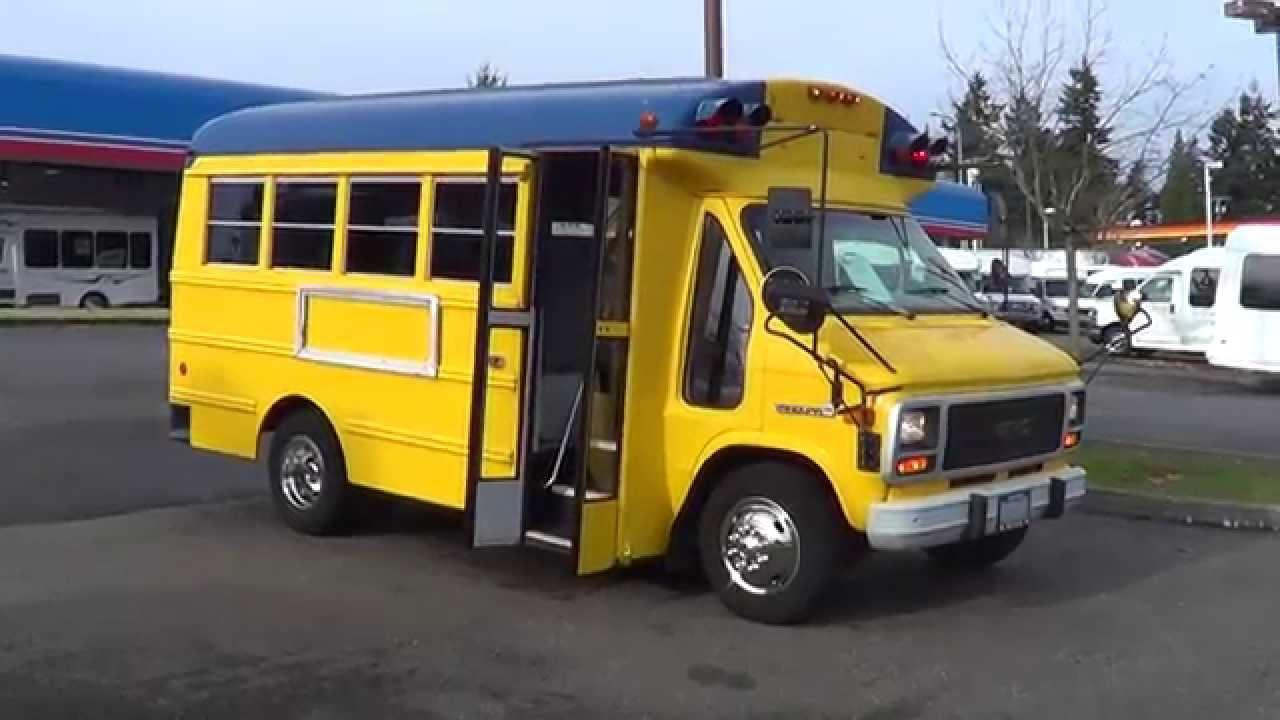Bus: (165, 79, 1090, 627)
